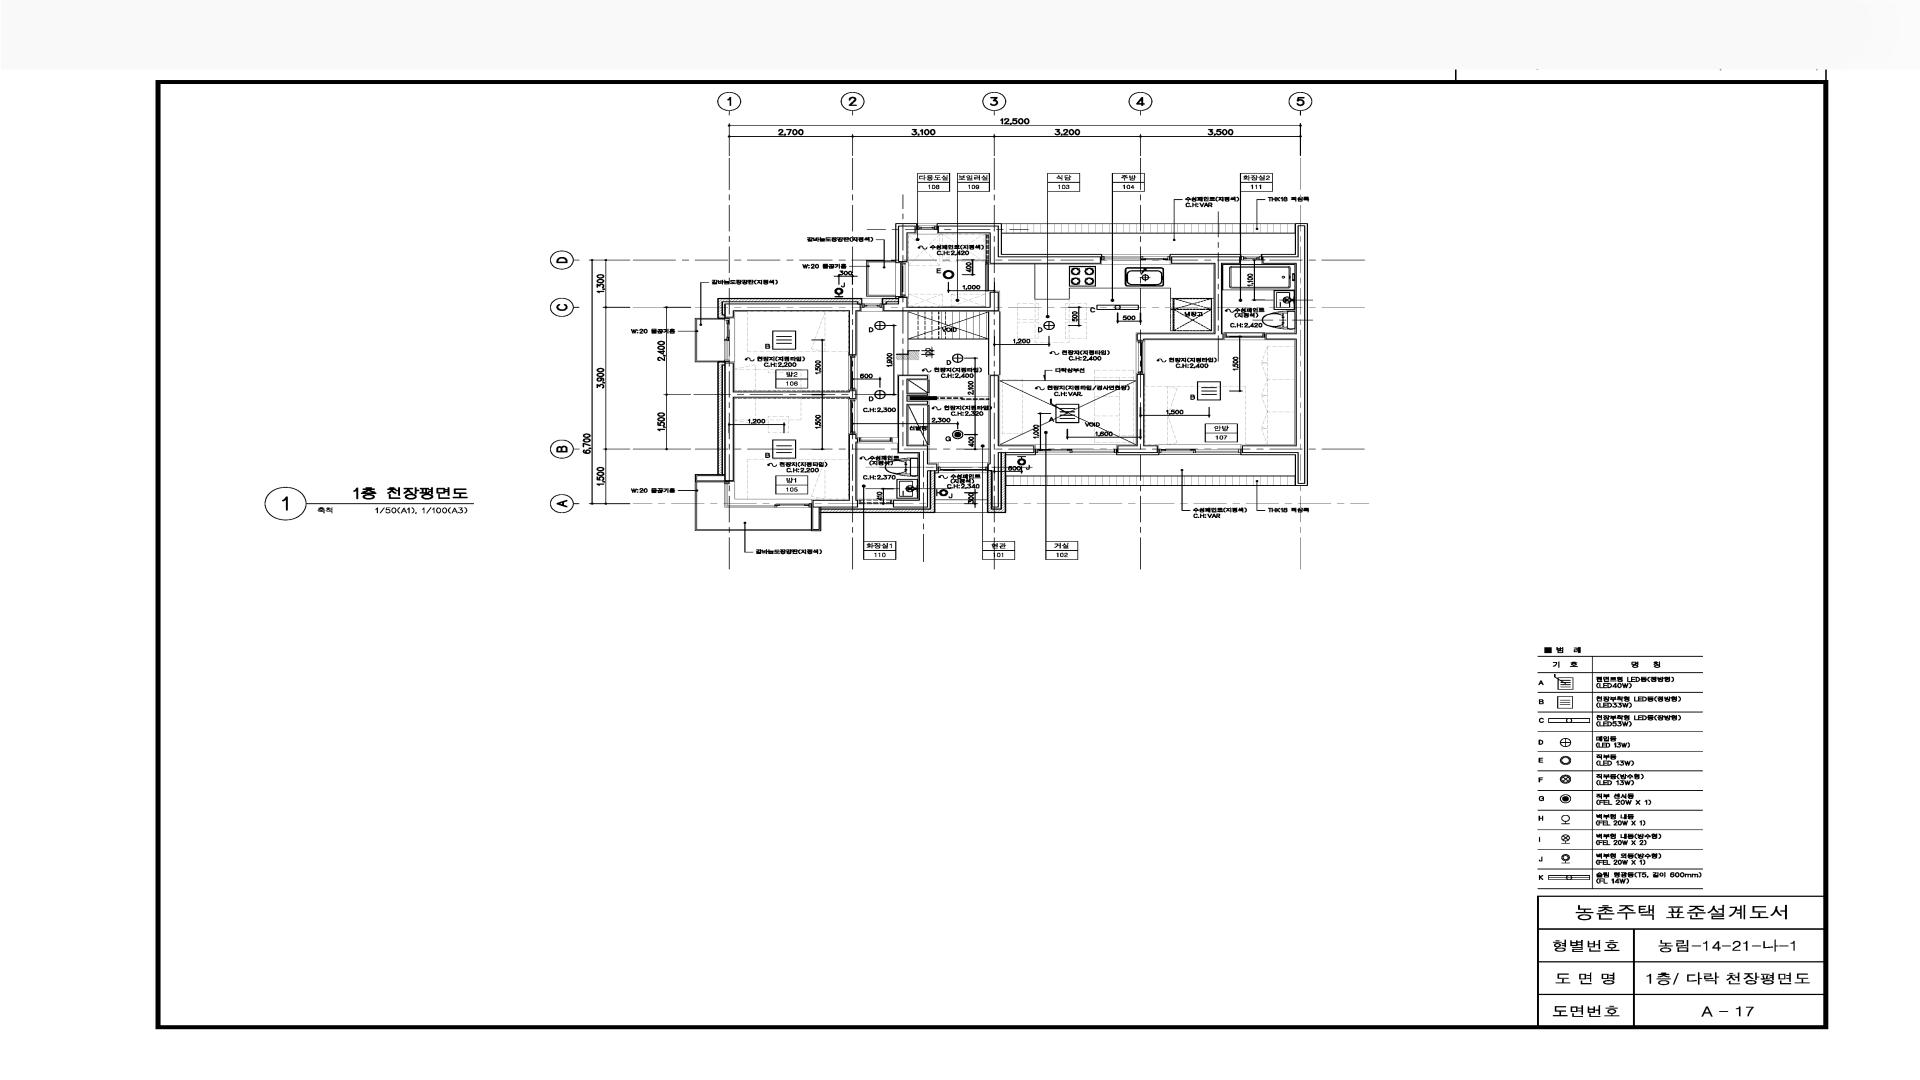door: (938, 463, 988, 473), (896, 263, 909, 297), (908, 396, 989, 400), (848, 356, 857, 390), (848, 400, 857, 434), (1136, 341, 1145, 374), (1224, 333, 1265, 340), (859, 437, 893, 443), (986, 234, 989, 291), (859, 500, 893, 504)
wall: (1242, 225, 1305, 484), (724, 361, 856, 481), (1137, 256, 1240, 341), (724, 303, 861, 355), (987, 375, 1034, 507), (938, 226, 1101, 264), (893, 375, 938, 508), (820, 471, 935, 513), (812, 434, 858, 508), (1117, 374, 1158, 453), (717, 298, 862, 318), (883, 292, 999, 311), (987, 453, 1006, 513), (988, 312, 1001, 375), (717, 361, 724, 475), (898, 226, 916, 262), (882, 298, 898, 305)
window: (724, 481, 812, 508), (1158, 444, 1242, 455), (1035, 444, 1117, 455), (1101, 254, 1170, 265), (724, 318, 735, 361), (862, 298, 882, 312), (916, 223, 938, 234), (1241, 254, 1262, 264)
